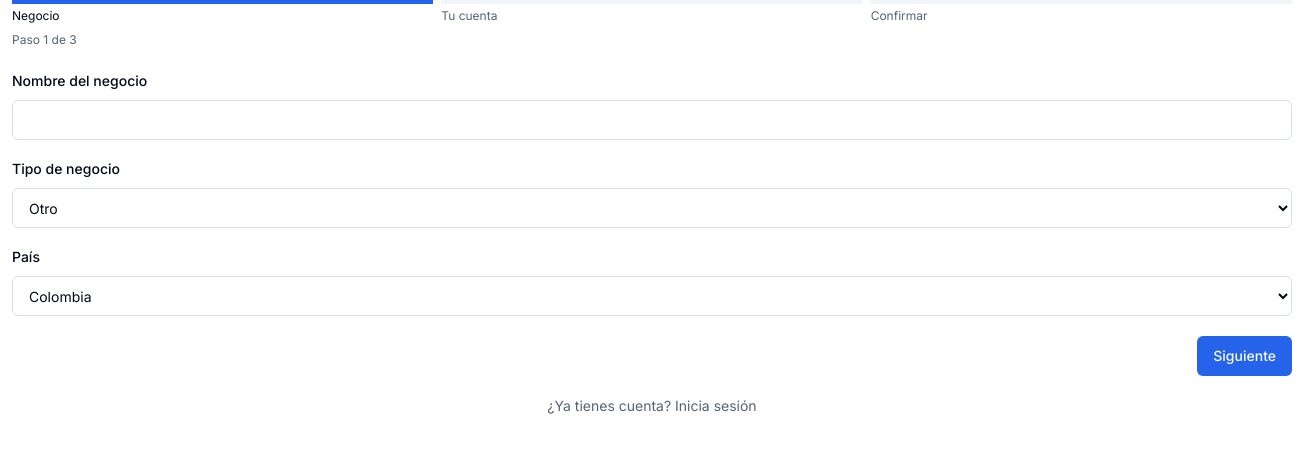
Test: OnboardingWizard › no avanza del primer paso sin nombre de negocio
This screenshot has width=1304, height=459.
Click the button "Siguiente": (1245,356) [1197,336,1292,376]
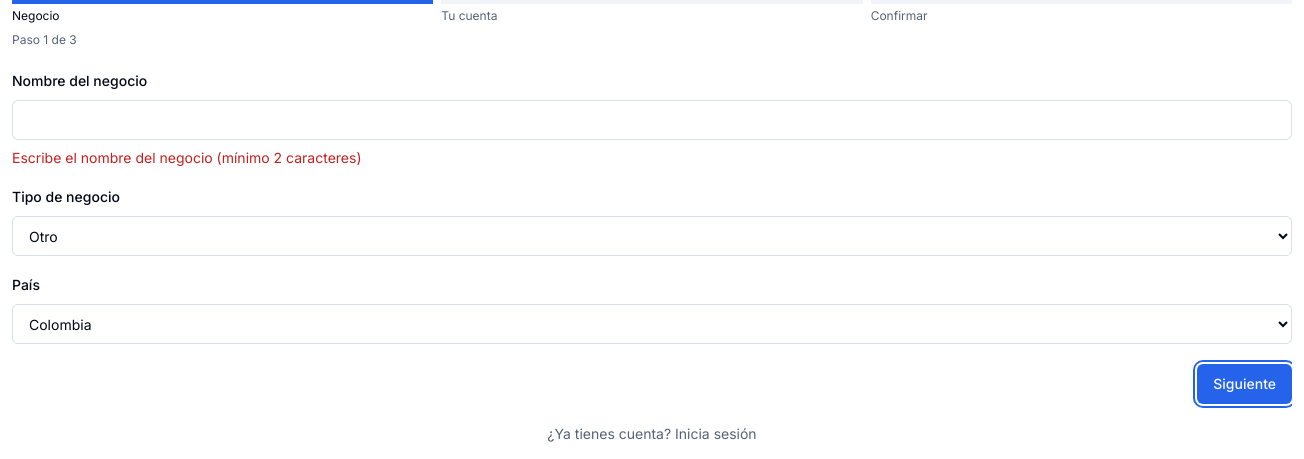
Result: the text "Escribe el nombre del negocio (mínimo 2 caracteres)" is shown at [12,149,362,166]
